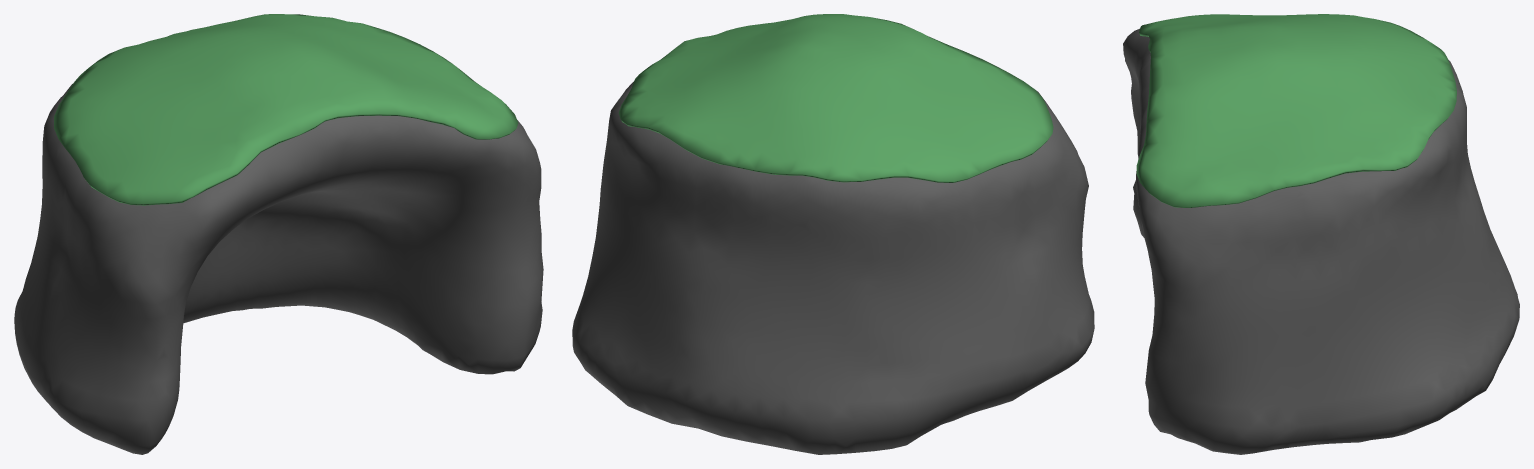
File: SmallCave.fbx
3 renders of one model, left to right at view 1: azimuth 30°, elevation 25°; view 2: azimuth 150°, elevation 25°; view 3: azimuth 270°, elevation 25°, orthographic. The views are drawn at different scales.
Visible parts, largest first — view 1: Cube.059, Cube.061; view 2: Cube.059, Cube.061; view 3: Cube.059, Cube.061.
Part boxes in pixels (left/top/right/bottom): Cube.059: left=14, top=84, right=543, bottom=454; Cube.061: left=54, top=14, right=518, bottom=205; Cube.059: left=572, top=82, right=1094, bottom=454; Cube.061: left=618, top=14, right=1053, bottom=182; Cube.059: left=1123, top=28, right=1519, bottom=454; Cube.061: left=1136, top=14, right=1456, bottom=207.
Bounding box in the file's own units: 984 × 633 × 730.
